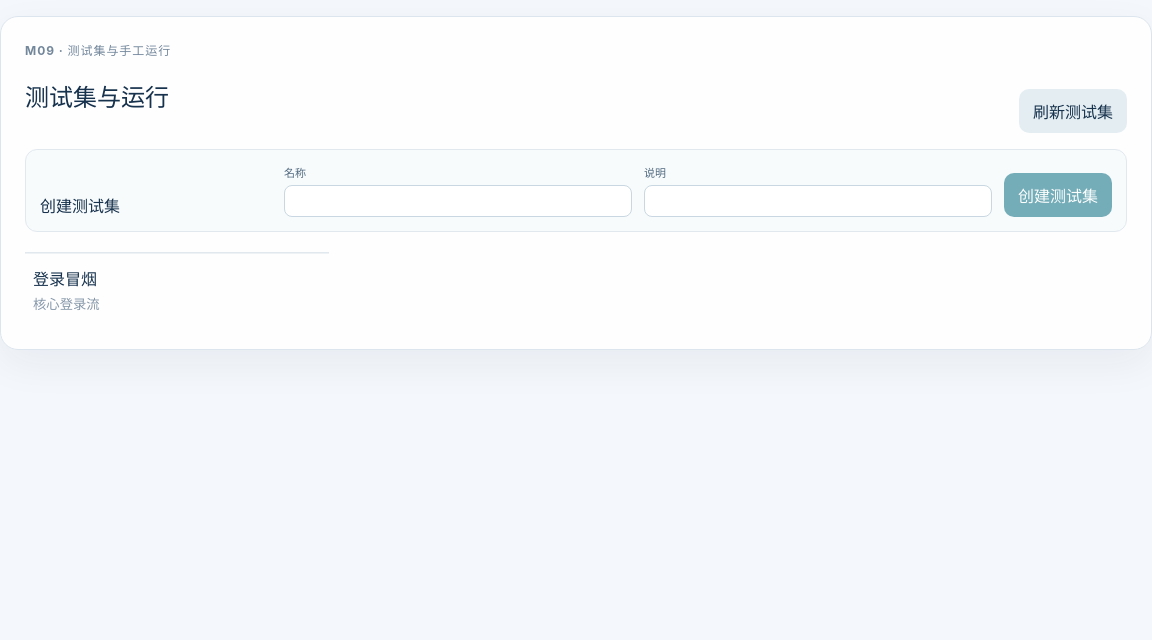
Test: TestExecutionPanel › loads test sets, instances and starts a manual run
Step 1. Click the button "登录冒烟 核心登录流" → (65, 279), box [25,253,329,325]
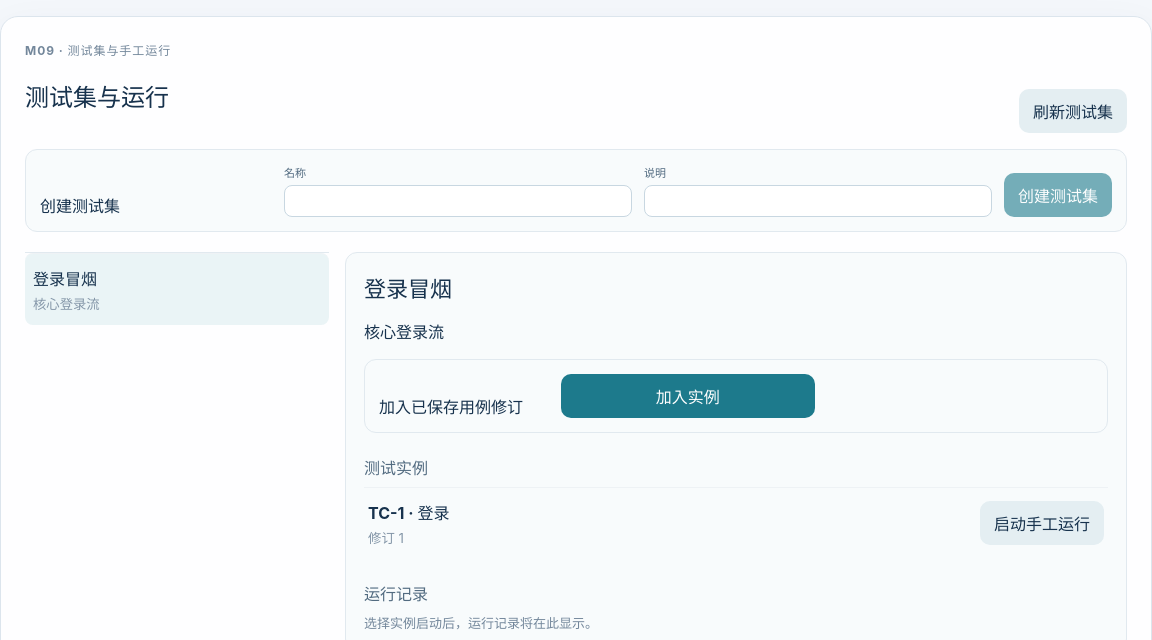
Result: the text "TC-1 · 登录" is shown at [368,500,449,524]
Step 2. Click the button "启动手工运行" → (1042, 523), box [980,501,1104,545]
(page scrolled)
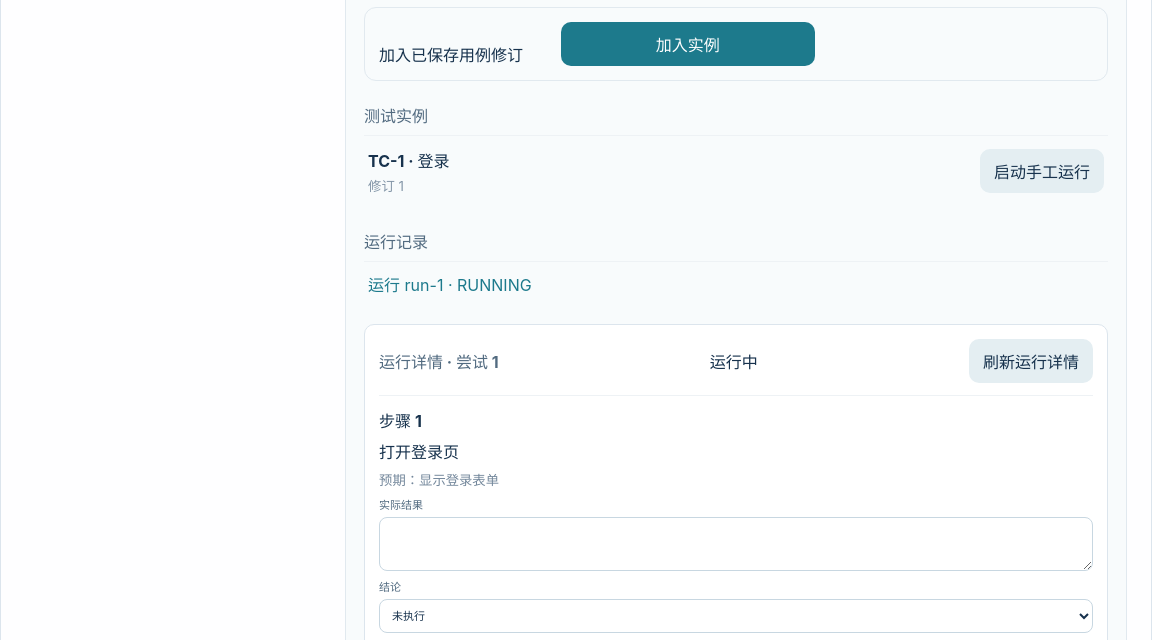
Result: the text "运行中" is shown at [710,349,758,373]
